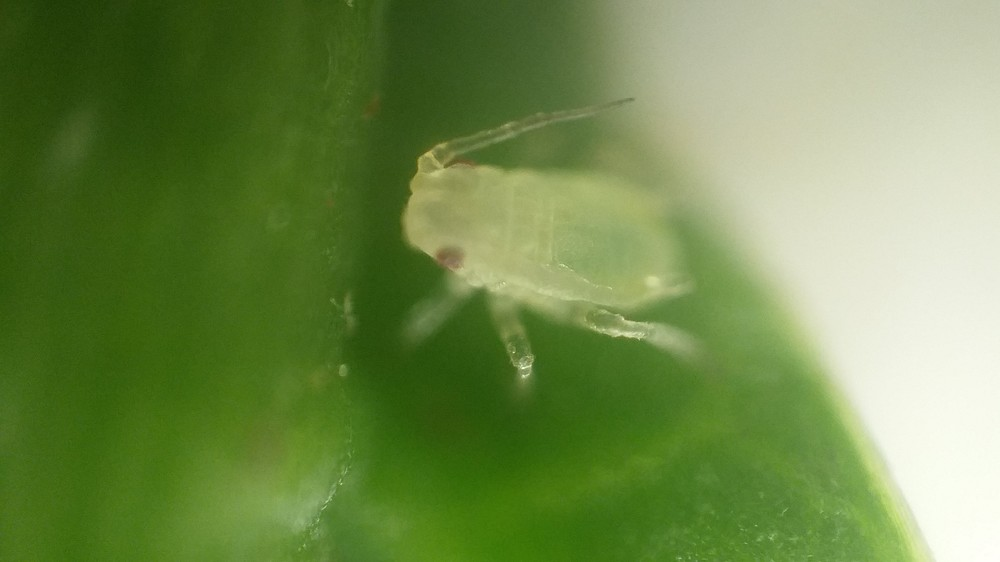Pulgon: (366, 79, 758, 407)
